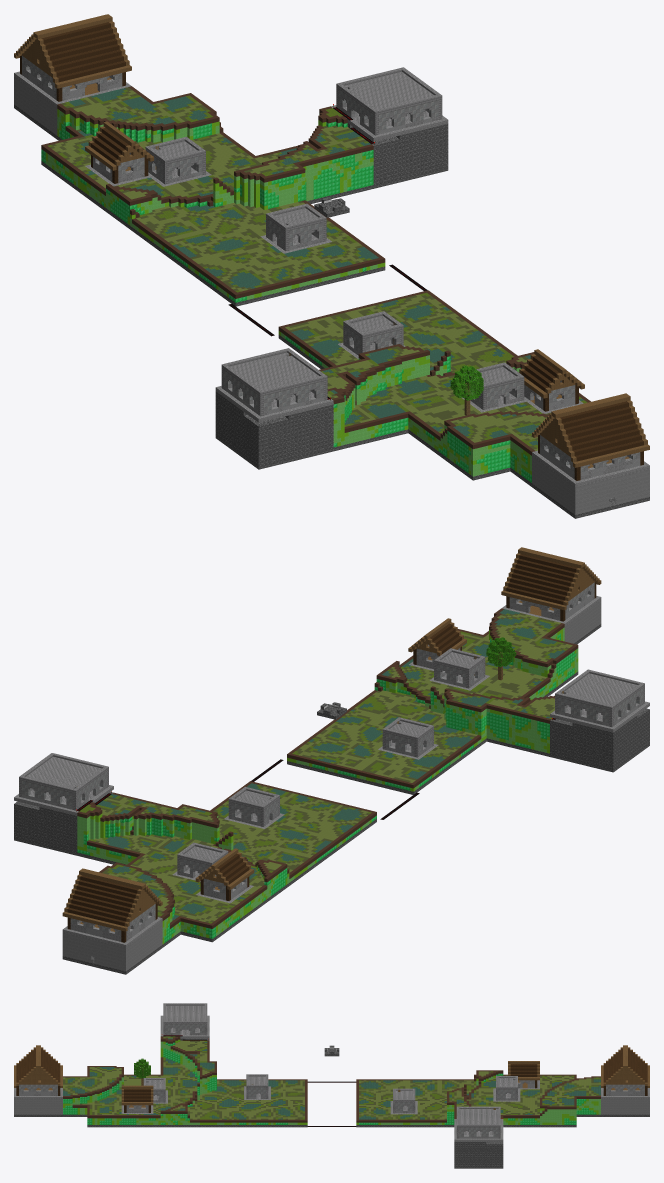
File: minecraft.obj
3 views of the same model, one above another, from view 1: azimuth 30°, elevation 25°; view 2: azimuth 150°, elevation 25°; view 3: azimuth 270°, elevation 25° (orthographic). The views are drawn at different scales.
Size of the model in its own units: 120 by 26 by 260.
